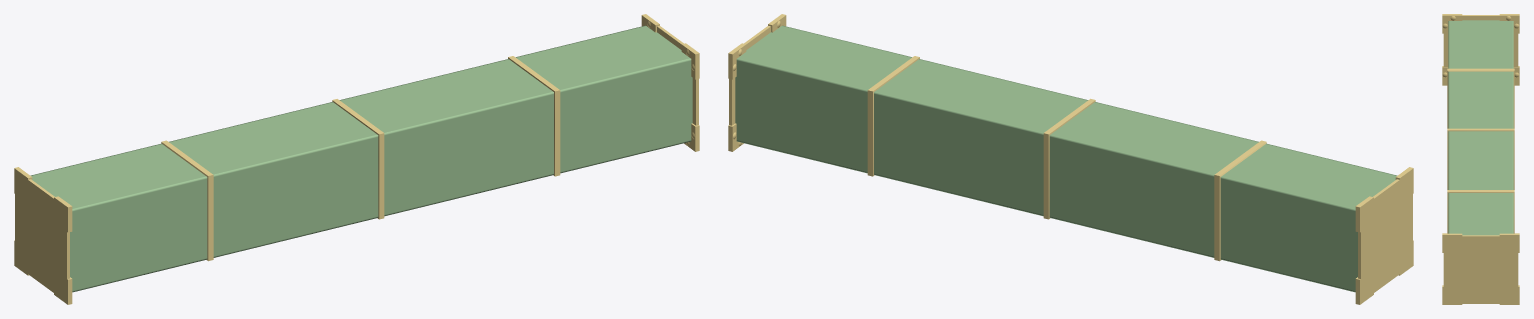
File: Ventilating_Duct_01d_snaps020.FBX
3 views of the same model, side by side, from view 1: azimuth 30°, elevation 25°; view 2: azimuth 150°, elevation 25°; view 3: azimuth 270°, elevation 25° (orthographic). The views are drawn at different scales.
Visible parts, largest first — view 1: Ventilating_Duct_01d_snaps020_LOD0; view 2: Ventilating_Duct_01d_snaps020_LOD0; view 3: Ventilating_Duct_01d_snaps020_LOD0.
Boxes of the visible parts, <box> form: Ventilating_Duct_01d_snaps020_LOD0: <box>14,14,699,304</box>; Ventilating_Duct_01d_snaps020_LOD0: <box>728,14,1413,304</box>; Ventilating_Duct_01d_snaps020_LOD0: <box>1442,14,1519,304</box>.
Size of what is drawn, in the model's own units: 4 by 0.591 by 0.5908.
